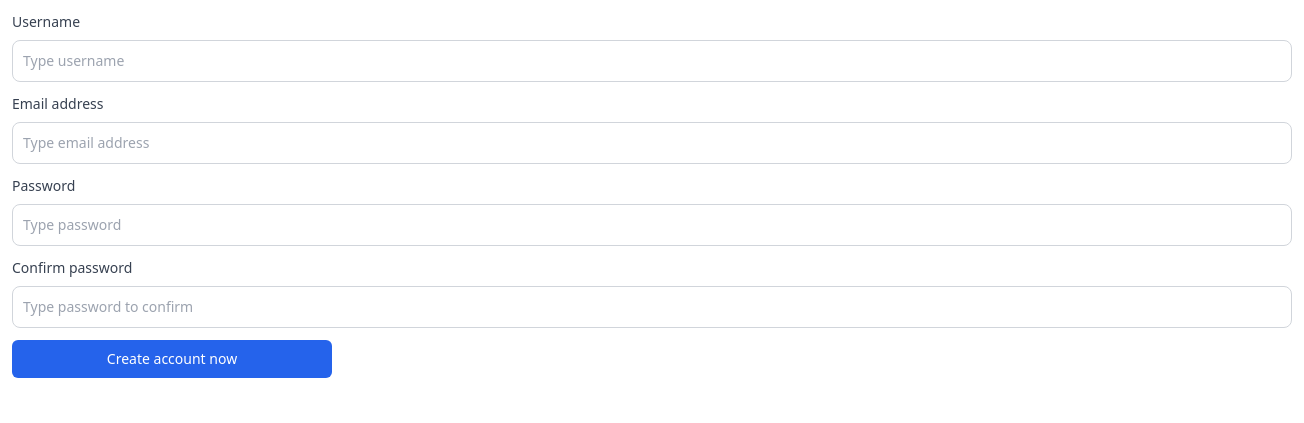
Form sign up component › validates password confirmation match
The width and height of the screenshot is (1304, 423).
Type "ValidPass1!" into the password field with placeholder "Type password".
click(652, 225); type("ValidPass1!")  # box [12,204,1292,246]
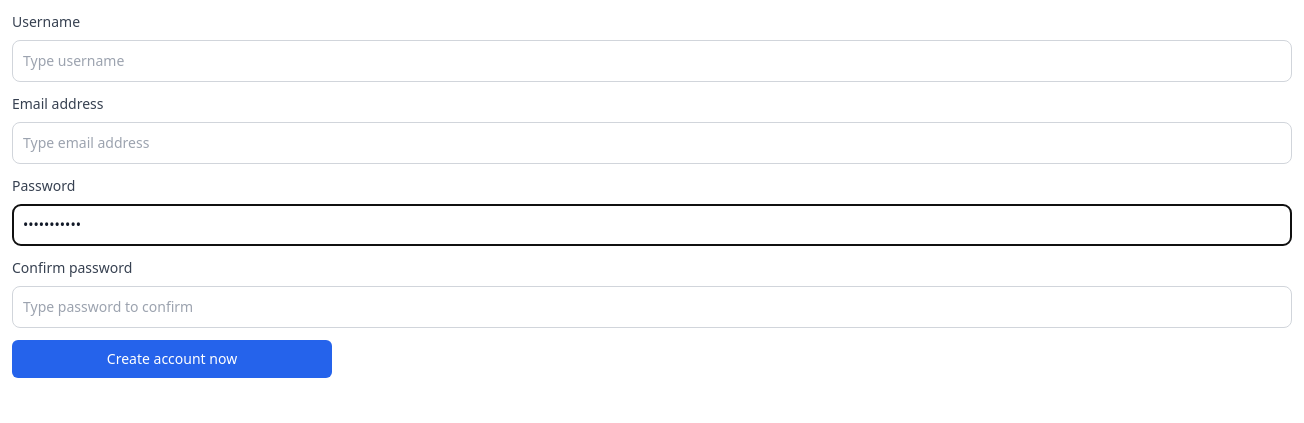
Type "DifferentPass1!" into the password field with placeholder "Type password to confirm".
click(652, 307); type("DifferentPass1!")  # box [12,286,1292,328]
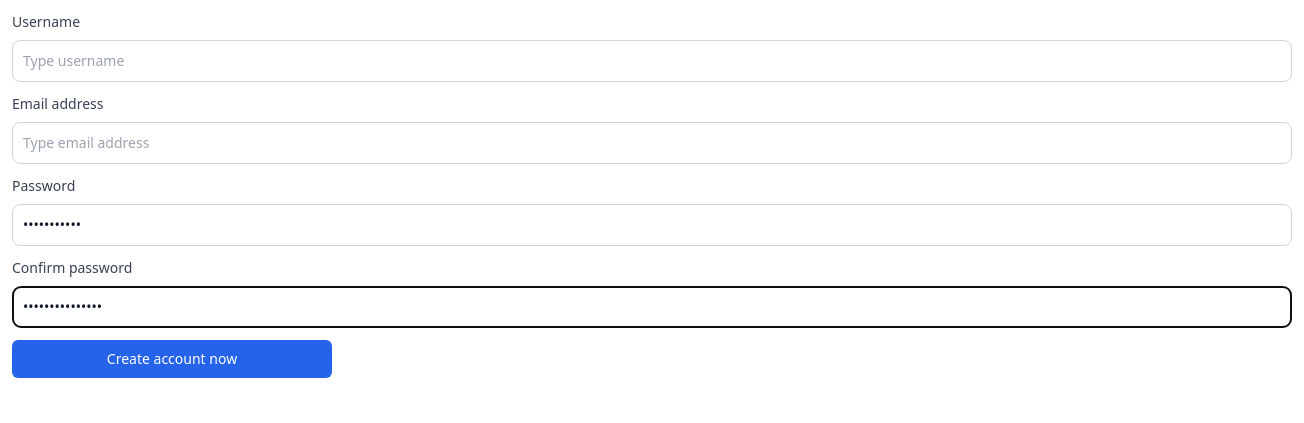
Press Tab
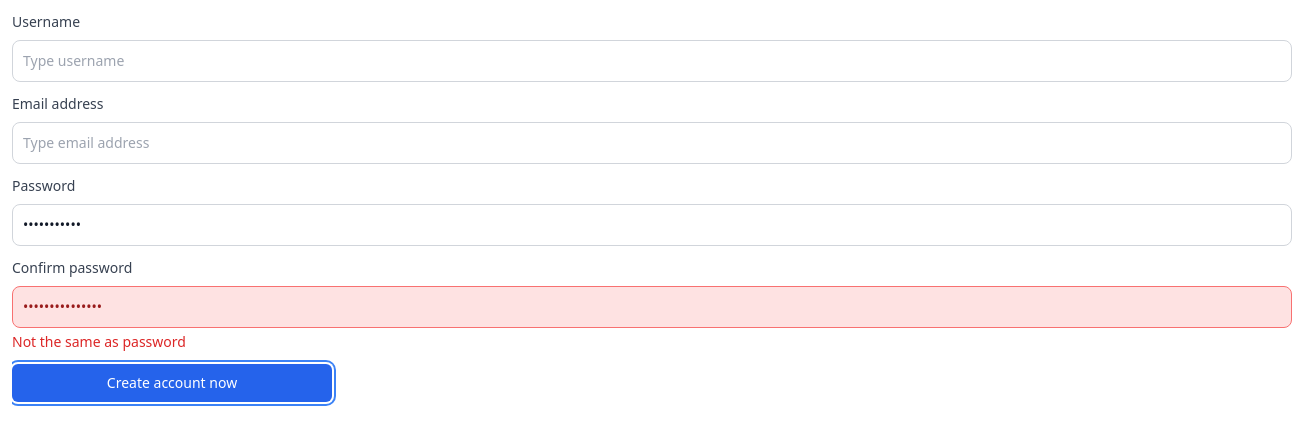
Expected: the text "Not the same as password" is shown, [12,332,186,351]
